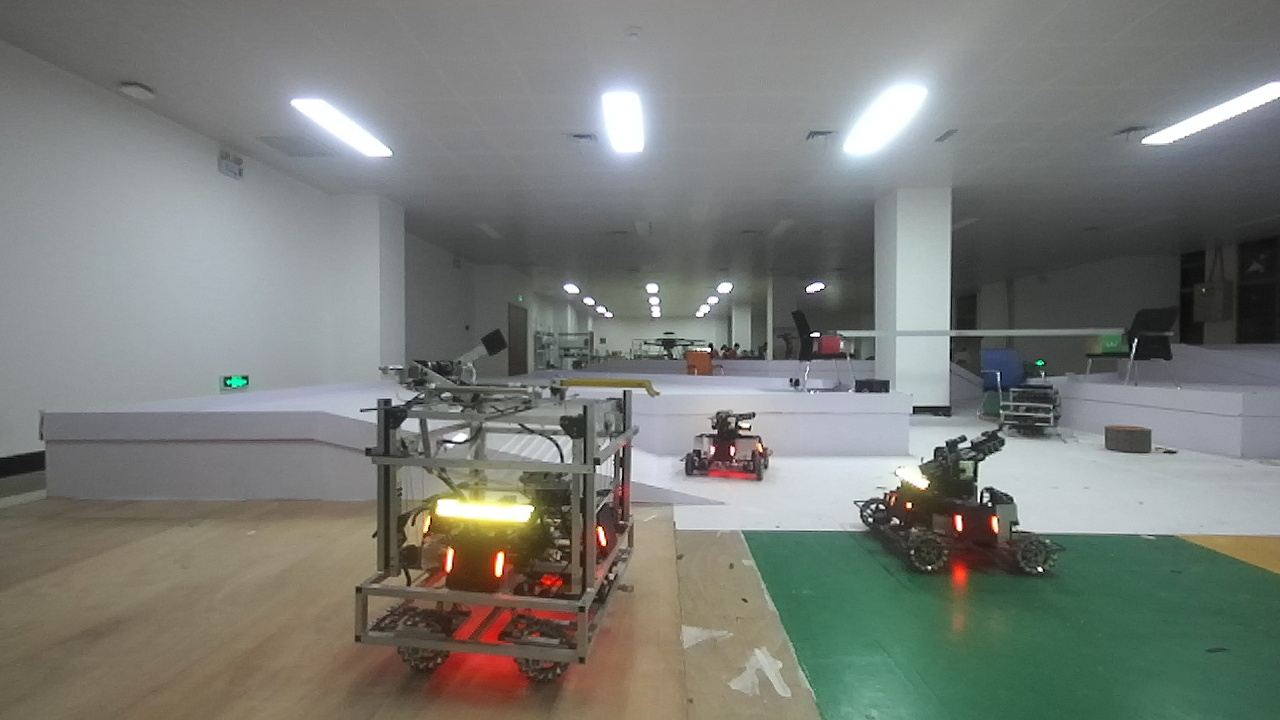car: (350, 373, 620, 695), (847, 424, 1059, 574), (677, 403, 786, 483)
